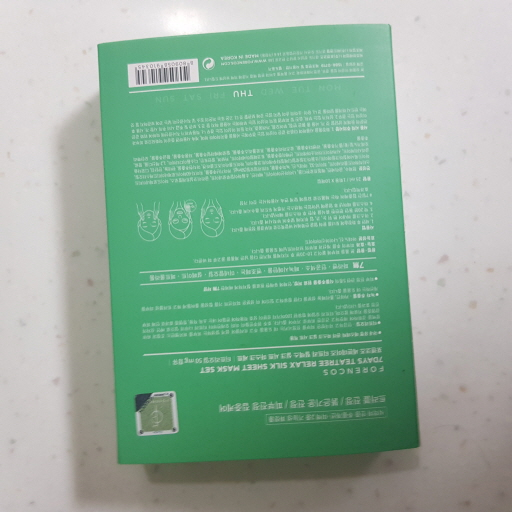Paper_0: (90, 21, 427, 467)
